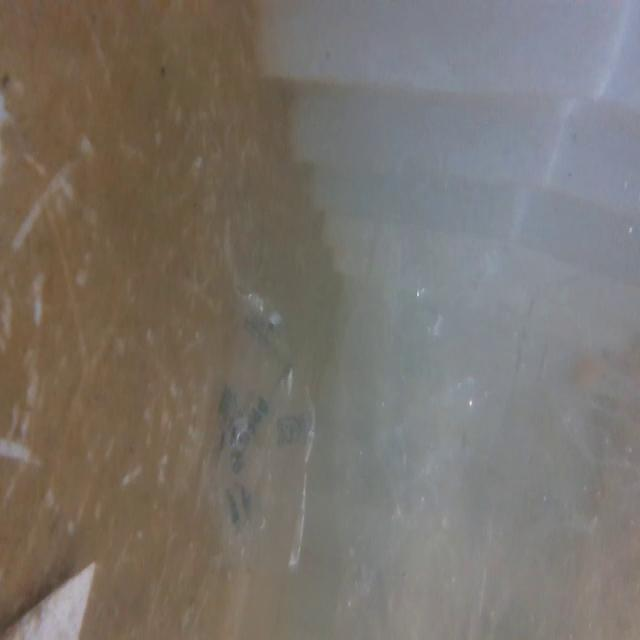plastic bags: (215, 287, 320, 581)
